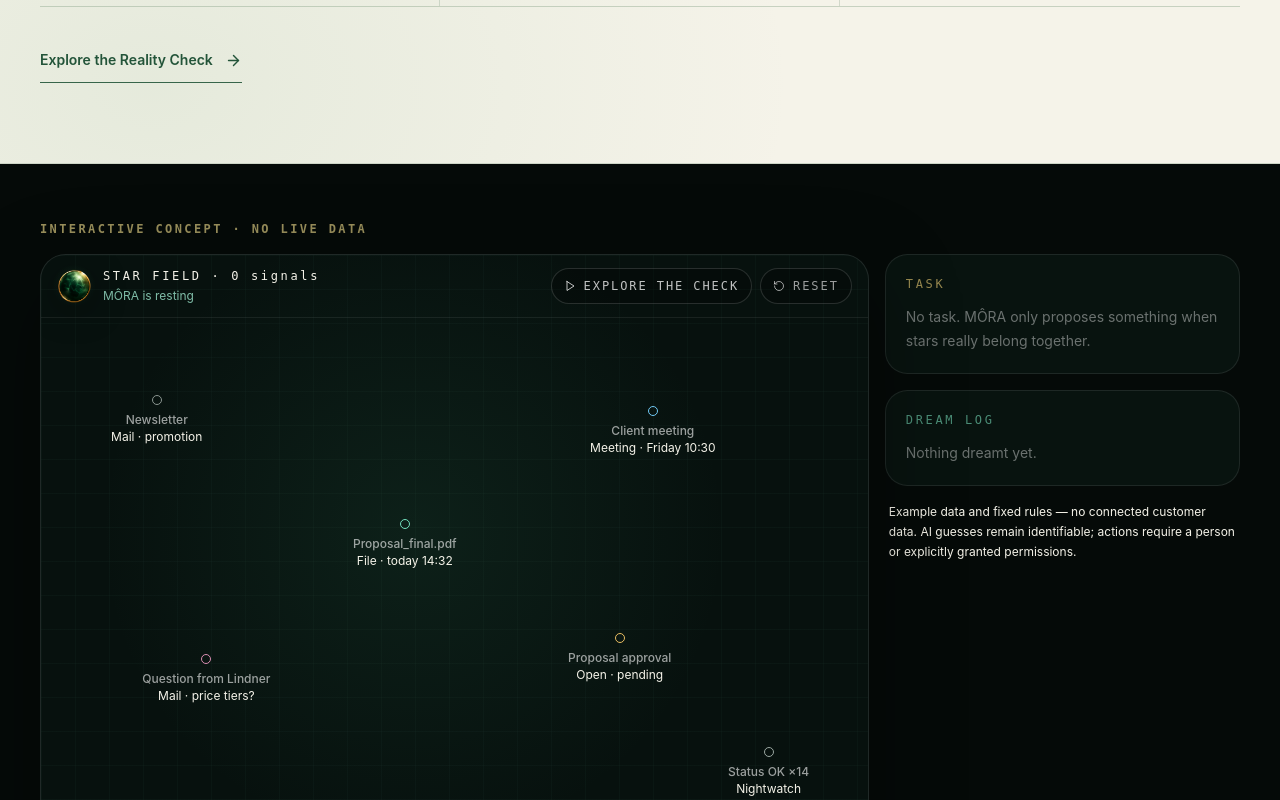
Scenario: MoraDeepViewLab — optional deterministic technical view › shows dropped noise in the dream log
(page scrolled)
Click the button "Newsletter Mail · promotion" at (157, 400), box [139, 382, 175, 418]
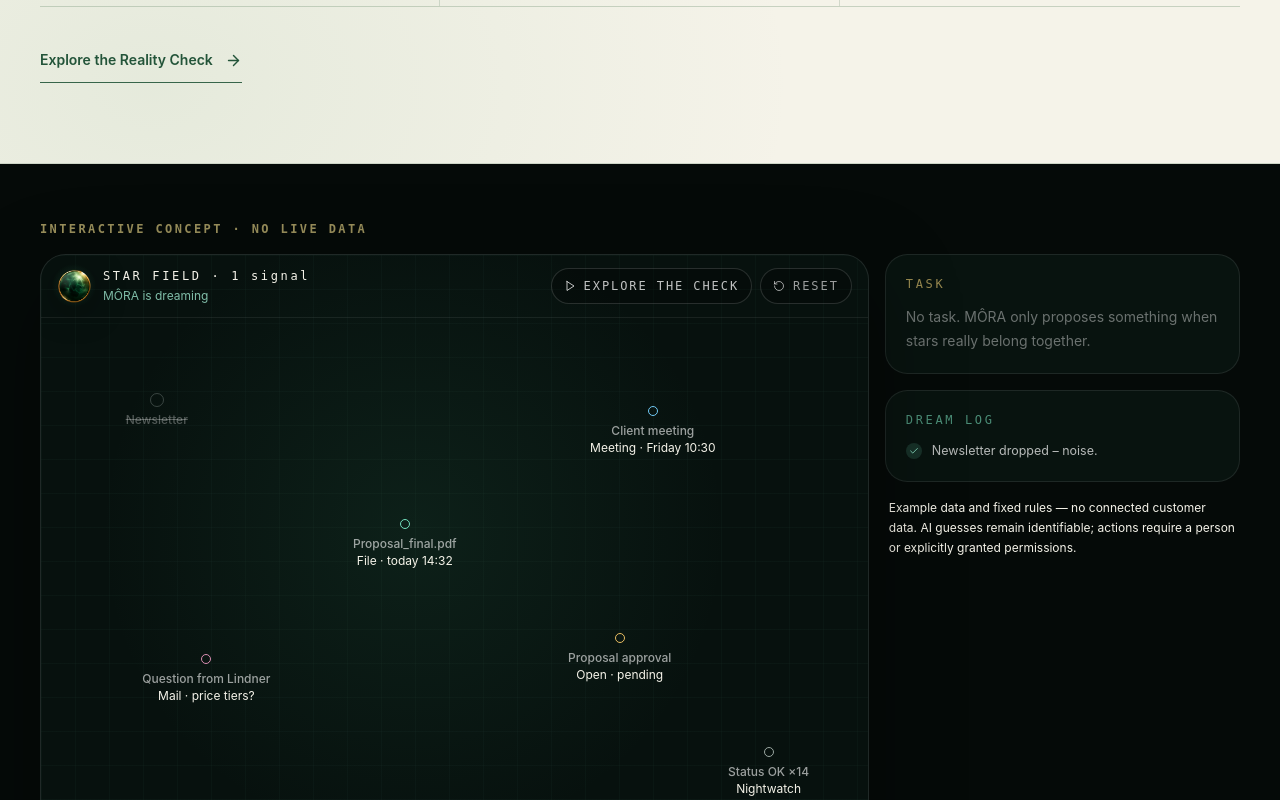
Expected: the text "No task" is shown, [906, 308, 1217, 349]
Now the text "Newsletter dropped – noise." is shown, box [932, 441, 1098, 461]
